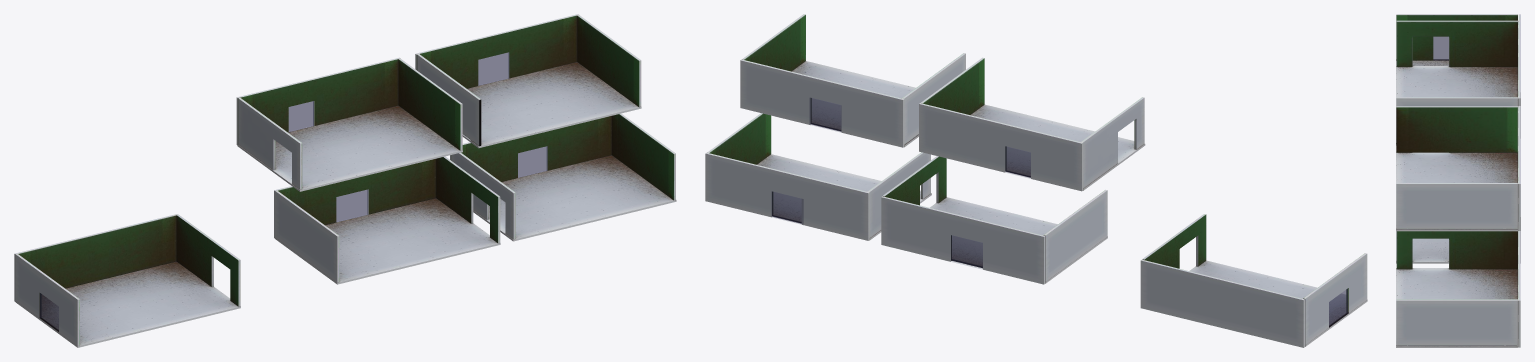
The picture shows the model from 3 angles, left to right: view 1: azimuth 30°, elevation 25°; view 2: azimuth 150°, elevation 25°; view 3: azimuth 270°, elevation 25°; orthographic projection.
Parts seen in each view (by area): view 1: polySurface14, polySurface18, polySurface29, polySurface27, polySurface22, polySurface15, polySurface11, polySurface19, polySurface24, polySurface28, polySurface21, polySurface13 (+12 smaller); view 2: polySurface15, polySurface11, polySurface28, polySurface19, polySurface24, polySurface26, polySurface14, polySurface27, polySurface16, polySurface12, polySurface22, polySurface29 (+12 smaller); view 3: polySurface21, polySurface23, polySurface31, polySurface12, polySurface22, polySurface29, polySurface14, polySurface30, polySurface16, polySurface13, polySurface27, pCube5 (+6 smaller).
Part boxes in pixels (x1,y1,x2,y2): polySurface14: [237, 105, 462, 191]; polySurface18: [15, 261, 240, 347]; polySurface29: [473, 155, 676, 241]; polySurface27: [275, 198, 500, 284]; polySurface22: [462, 62, 641, 148]; polySurface15: [14, 214, 177, 301]; polySurface11: [236, 57, 400, 145]; polySurface19: [415, 14, 578, 88]; polySurface24: [274, 159, 436, 238]; polySurface28: [450, 116, 611, 181]; polySurface21: [577, 15, 641, 107]; polySurface13: [398, 58, 462, 150]; polySurface15: [1140, 259, 1304, 347]; polySurface11: [919, 103, 1082, 191]; polySurface28: [705, 152, 869, 240]; polySurface19: [740, 59, 904, 147]; polySurface24: [881, 196, 1045, 284]; polySurface26: [1043, 189, 1107, 281]; polySurface14: [970, 104, 1145, 190]; polySurface27: [930, 197, 1107, 283]; polySurface16: [1303, 253, 1367, 344]; polySurface12: [1081, 97, 1144, 188]; polySurface22: [791, 61, 918, 147]; polySurface29: [757, 154, 931, 240]; polySurface21: [1396, 183, 1517, 229]; polySurface23: [1396, 106, 1517, 152]; polySurface31: [1396, 299, 1517, 345]; polySurface12: [1396, 20, 1517, 66]; polySurface22: [1396, 152, 1517, 231]; polySurface29: [1396, 268, 1517, 347]; polySurface14: [1396, 66, 1517, 145]; polySurface30: [1396, 231, 1517, 269]; polySurface16: [1396, 14, 1517, 60]; polySurface13: [1396, 97, 1517, 106]; polySurface27: [1396, 231, 1448, 263]; pCube5: [1433, 36, 1448, 60].
Size of the model in its own units: 104 by 24.87 by 19.1.
Materials: 2 (1 with a texture image).
